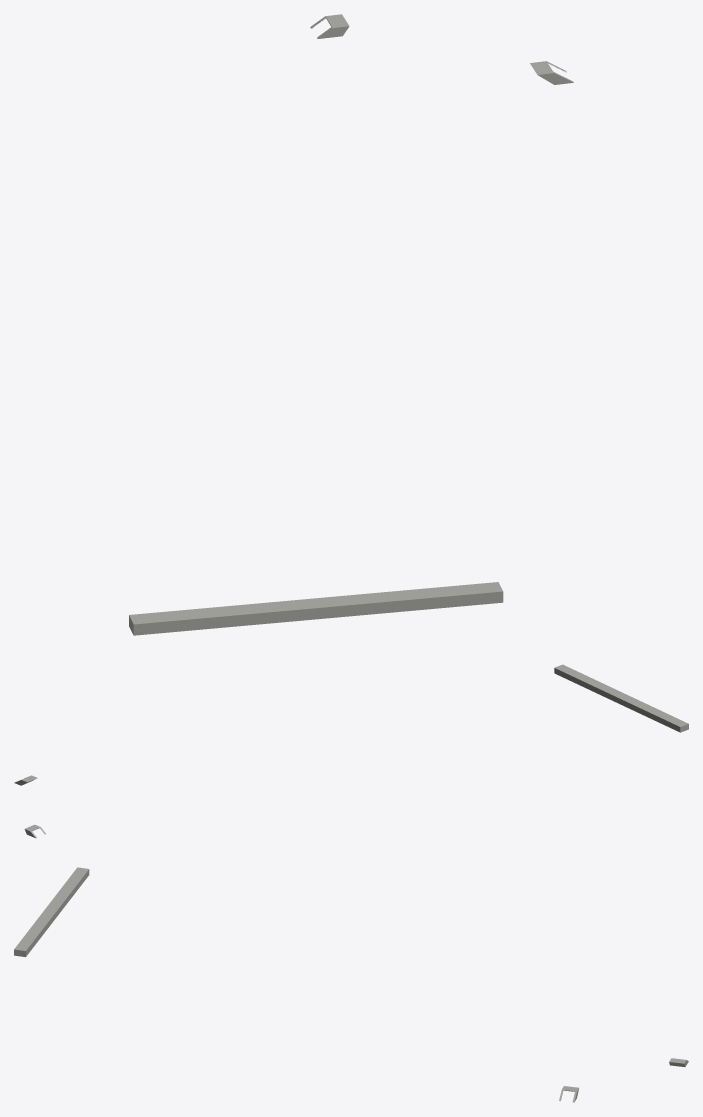
Rendered from kd_connection_world-inner_surface_2_7.glb.
3 renders of one model, top to bottom at view 1: azimuth 30°, elevation 25°; view 2: azimuth 150°, elevation 25°; view 3: azimuth 270°, elevation 25°, orthographic. The views are drawn at different scales.
Parts seen in each view (by area): view 1: kd_connection_world-inner_surface_2_7; view 2: kd_connection_world-inner_surface_2_7; view 3: kd_connection_world-inner_surface_2_7.
Boxes of the visible parts, box(x1,y1,x2,y2) form: kd_connection_world-inner_surface_2_7: box(129, 14, 573, 635); kd_connection_world-inner_surface_2_7: box(14, 664, 688, 838); kd_connection_world-inner_surface_2_7: box(14, 867, 688, 1102).
Bounding box in the file's own units: 422 × 10.7 × 511.
1 material, 1 textured.
